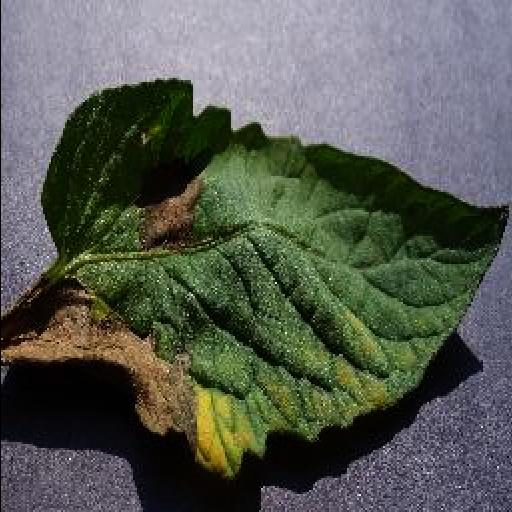disease_tomato: (0, 74, 512, 478)
